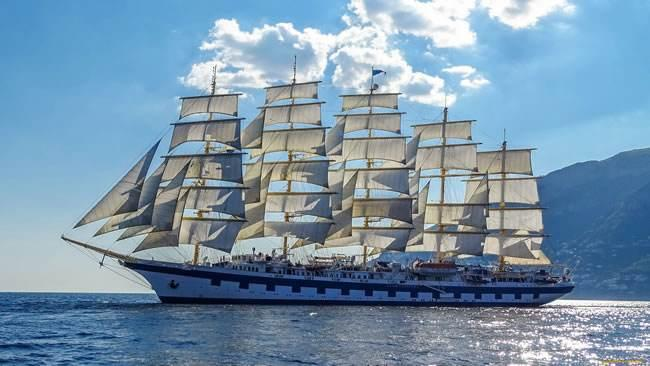fanchuan: (61, 66, 567, 300)
